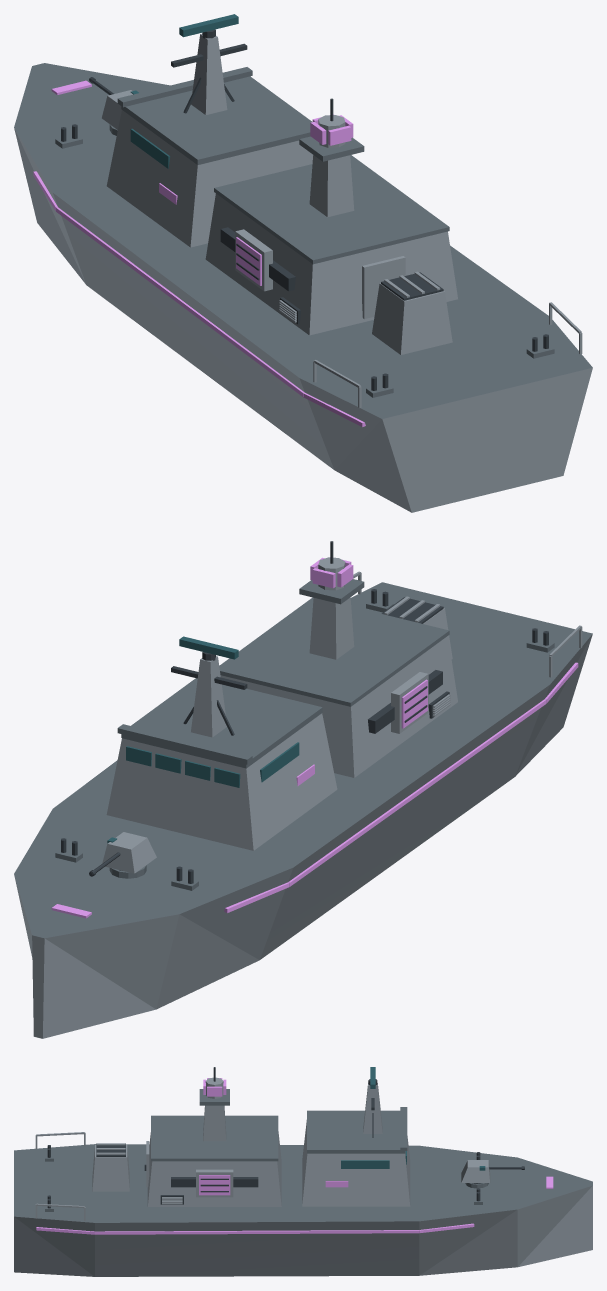
Rendered from ESC_EW_T0.fbx.
3 renders of one model, top to bottom at view 1: azimuth 30°, elevation 25°; view 2: azimuth 150°, elevation 25°; view 3: azimuth 270°, elevation 25°, orthographic. The views are drawn at different scales.
Parts seen in each view (by area): view 1: ContinuousHull.008, ElectronicsRoomRoof, ElectronicWarfareEquipmentRoom, Deckhouse.008, Roof.008, FunnelEnclosure.008, ESMMast, NavMast.004, RoleHullStripe-1_1, EWServiceHatch, BridgeBrow, ESMTopPlatform (+5 smaller); view 2: ContinuousHull.008, Deckhouse.008, ElectronicsRoomRoof, Roof.008, ElectronicWarfareEquipmentRoom, ESMMast, NavMast.004, RoleHullStripe-1_1, PrimaryGunCupola.008, BridgeBrow, JammerBackplate_P0, ESMTopPlatform (+4 smaller); view 3: ContinuousHull.008, Deckhouse.008, ElectronicsRoomRoof, ElectronicWarfareEquipmentRoom, Roof.008, FunnelEnclosure.008, RoleHullStripe1_1, ESMMast, NavMast.004, PrimaryGunCupola.008, JammerFace_S0, JammerWallBracket_S (+4 smaller).
Part boxes in pixels (x1,y1,x2,y2): ContinuousHull.008: (14, 63, 592, 512); ElectronicsRoomRoof: (214, 155, 449, 264); ElectronicWarfareEquipmentRoom: (205, 193, 457, 335); Deckhouse.008: (106, 110, 313, 247); Roof.008: (121, 76, 312, 164); FunnelEnclosure.008: (372, 283, 452, 354); ESMMast: (309, 155, 354, 217); NavMast.004: (191, 34, 227, 114); RoleHullStripe-1_1: (56, 207, 304, 396); EWServiceHatch: (362, 256, 405, 318); BridgeBrow: (117, 67, 252, 107); ESMTopPlatform: (299, 136, 364, 161); ContinuousHull.008: (14, 582, 592, 1038); Deckhouse.008: (106, 713, 337, 850); ElectronicsRoomRoof: (219, 597, 449, 706); Roof.008: (121, 678, 322, 768); ElectronicWarfareEquipmentRoom: (220, 636, 457, 777); ESMMast: (309, 597, 354, 659); NavMast.004: (191, 656, 226, 737); RoleHullStripe-1_1: (288, 699, 546, 886); PrimaryGunCupola.008: (102, 832, 156, 873); BridgeBrow: (117, 724, 252, 764); JammerBackplate_P0: (391, 672, 428, 733); ESMTopPlatform: (299, 579, 364, 604); ContinuousHull.008: (14, 1144, 592, 1276); Deckhouse.008: (302, 1120, 410, 1206); ElectronicsRoomRoof: (151, 1115, 278, 1161); ElectronicWarfareEquipmentRoom: (147, 1131, 281, 1206); Roof.008: (307, 1110, 405, 1153); FunnelEnclosure.008: (92, 1144, 129, 1191); RoleHullStripe1_1: (95, 1230, 419, 1234); ESMMast: (203, 1105, 226, 1141); NavMast.004: (363, 1083, 382, 1133); PrimaryGunCupola.008: (461, 1160, 490, 1182); JammerFace_S0: (199, 1175, 230, 1195); JammerWallBracket_S: (171, 1177, 258, 1187).
Size of the model in its own units: 290 by 311 by 900.
